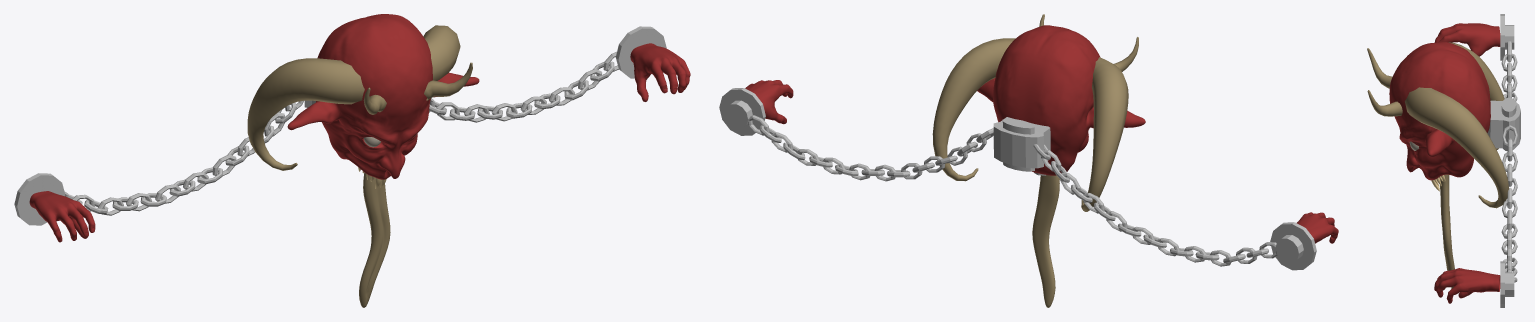
File: Devil_Mesh.fbx
The picture shows the model from 3 angles, left to right: view 1: azimuth 30°, elevation 25°; view 2: azimuth 150°, elevation 25°; view 3: azimuth 270°, elevation 25°; orthographic projection. The views are drawn at different scales.
Visible parts, largest first — view 1: Devil_Face_Mesh, Hands_Mesh; view 2: Devil_Face_Mesh, Hands_Mesh; view 3: Devil_Face_Mesh, Hands_Mesh.
Boxes of the visible parts, <box> form: Devil_Face_Mesh: <box>247,14,479,307</box>; Hands_Mesh: <box>14,26,690,242</box>; Devil_Face_Mesh: <box>932,14,1145,307</box>; Hands_Mesh: <box>719,80,1338,270</box>; Devil_Face_Mesh: <box>1367,42,1508,288</box>; Hands_Mesh: <box>1434,14,1520,307</box>.
Bounding box in the file's own units: 1931 × 835 × 470.
